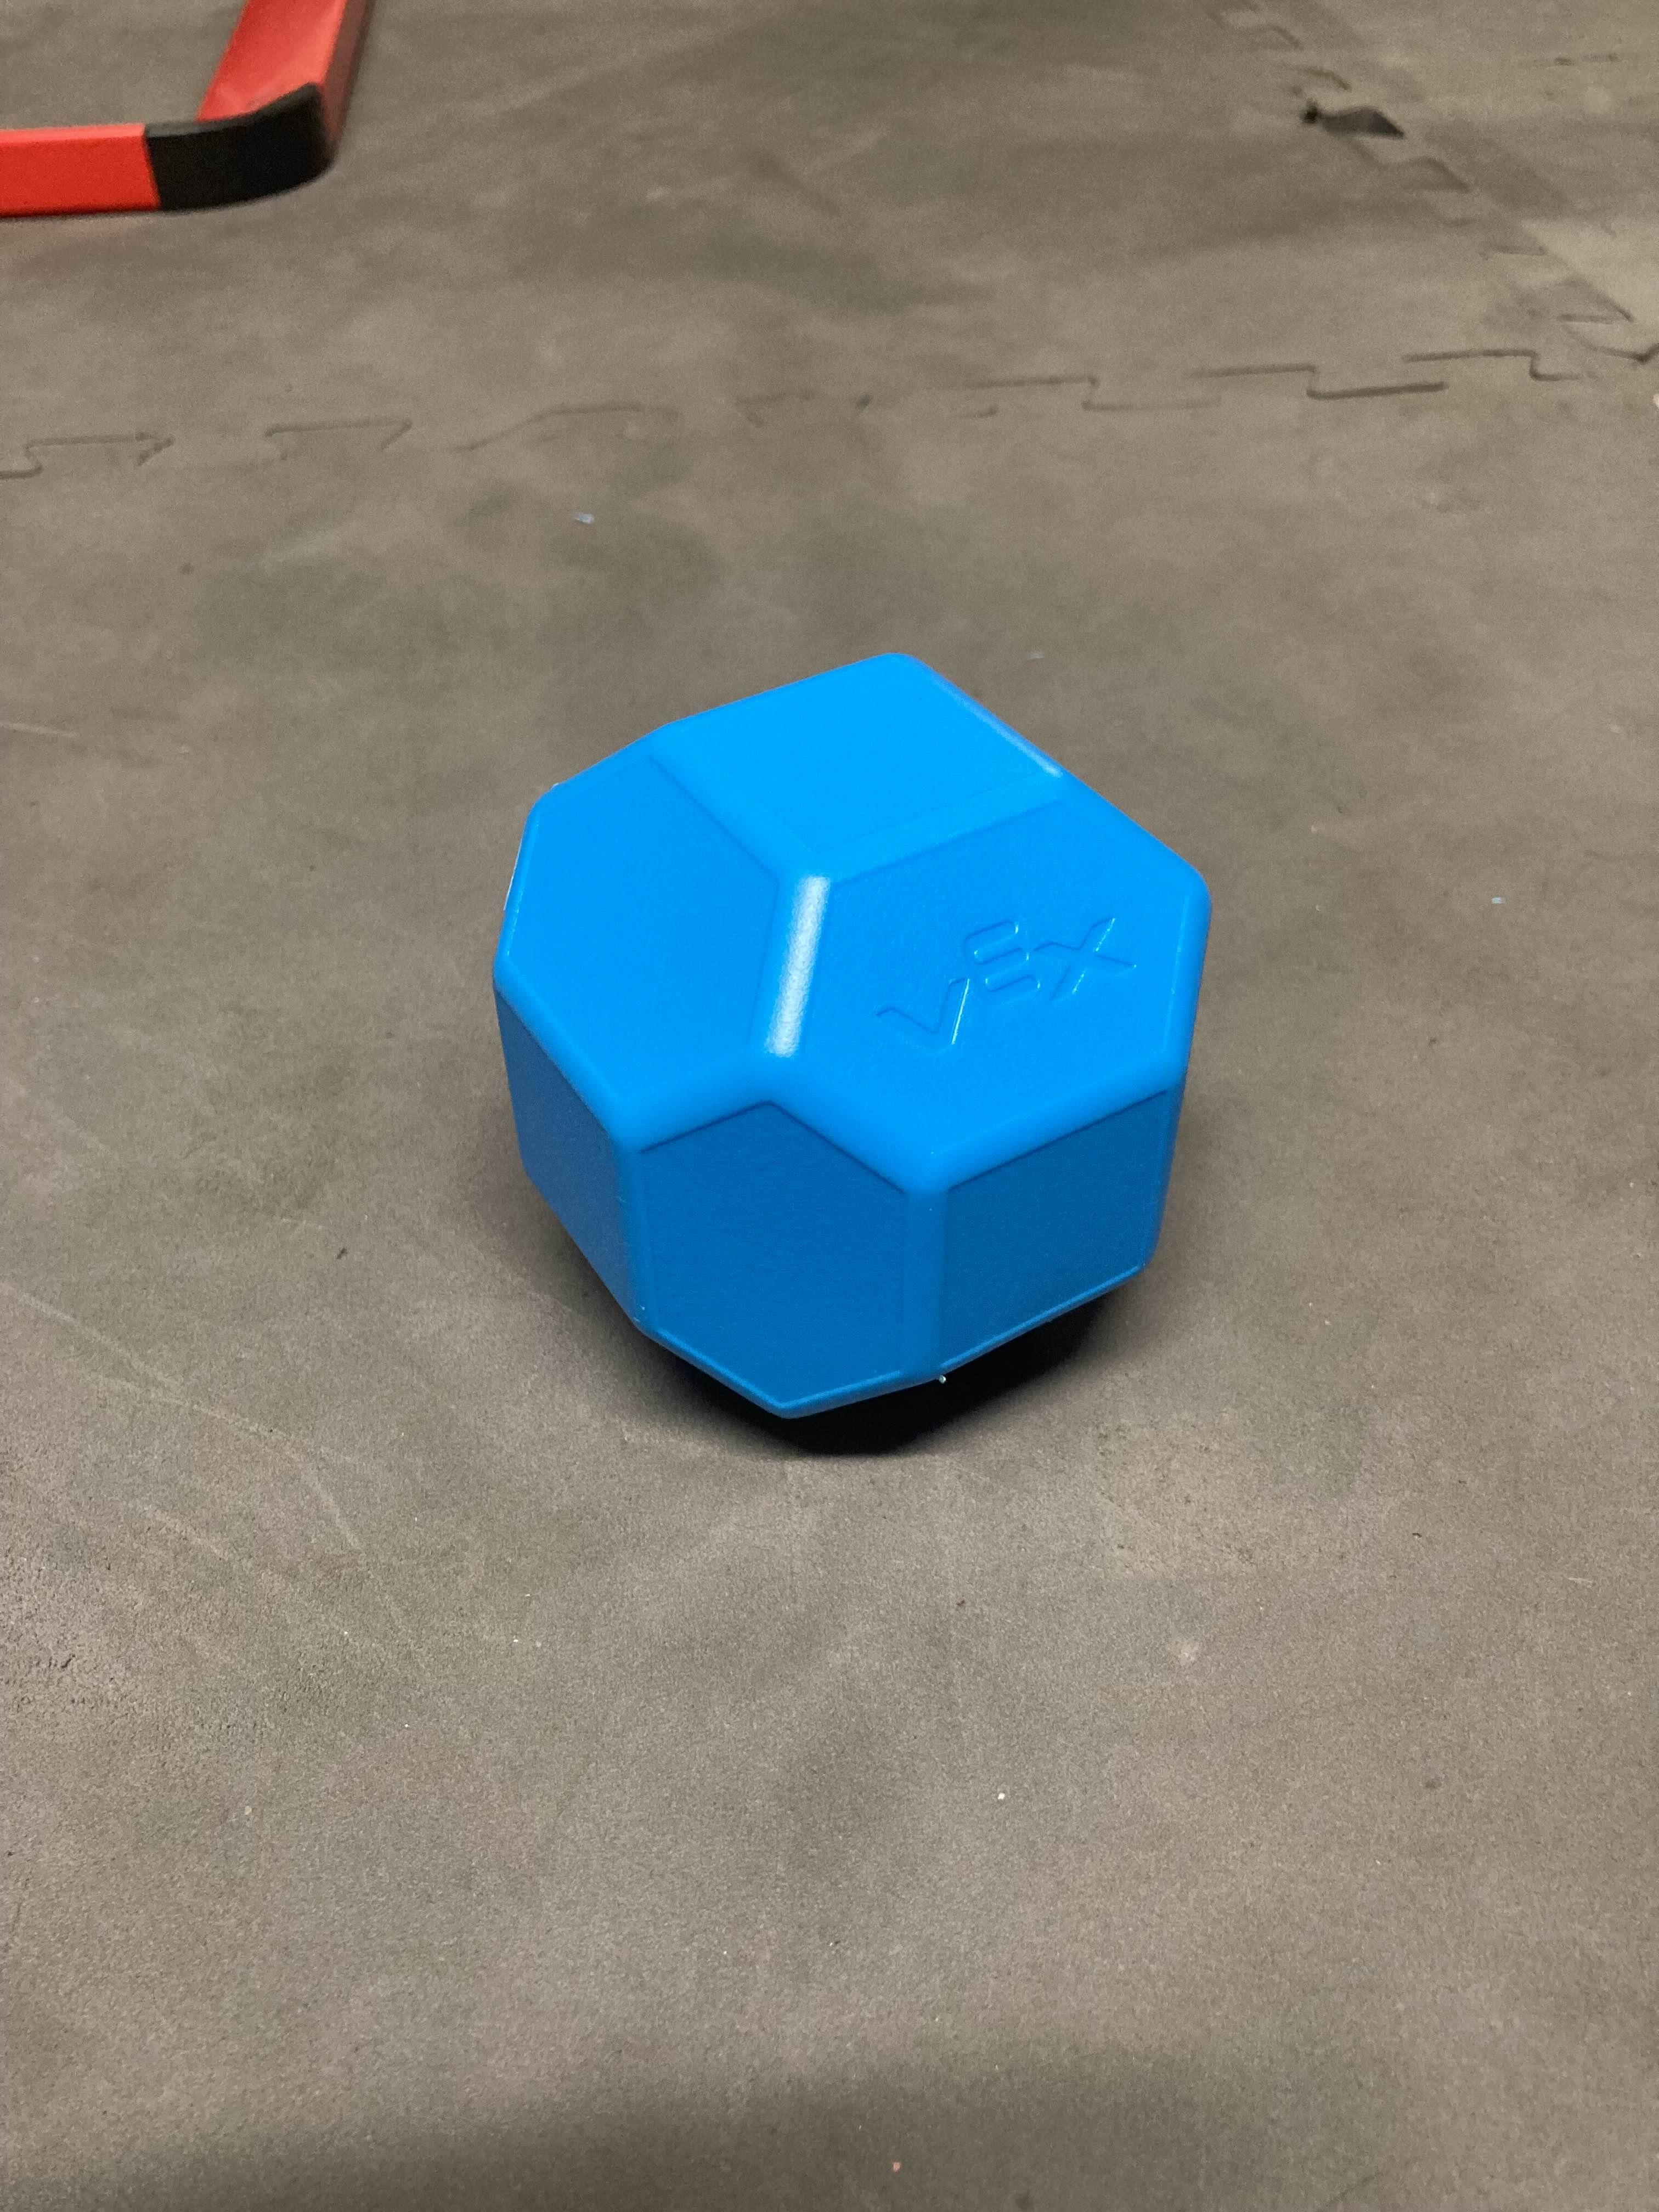Vex-Pieces-BLUE: (495, 655, 1209, 1416)
